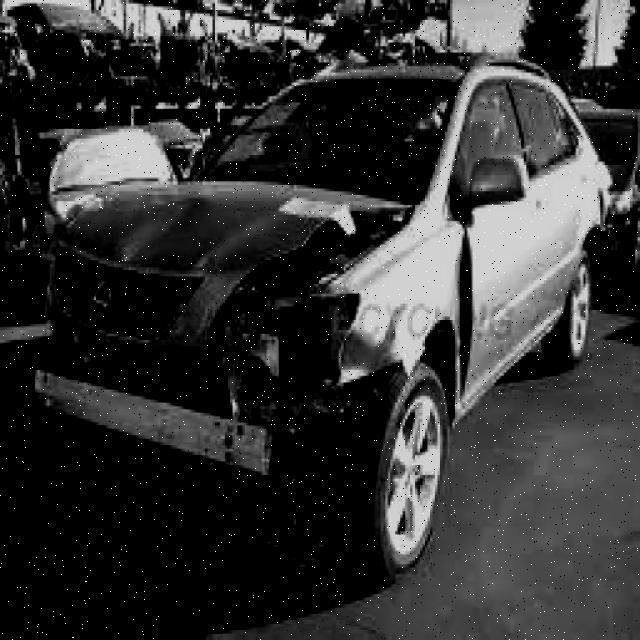car damage: (44, 181, 481, 577)
